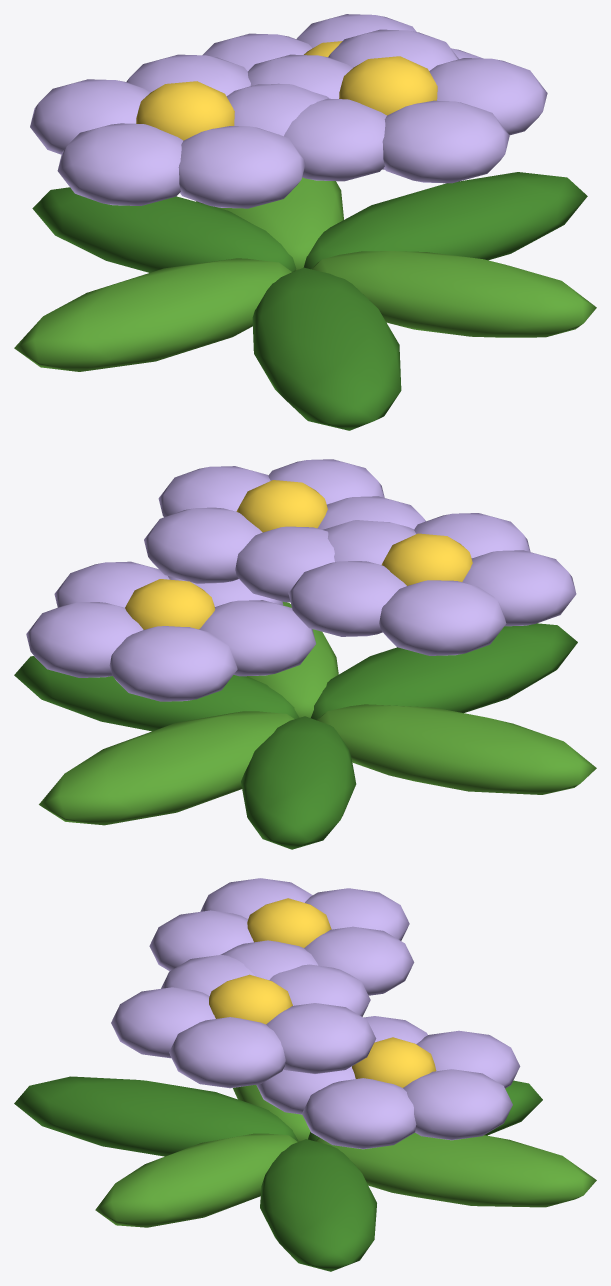
File: FlowersLilac.fbx
3 views of the same model, one above another, from view 1: azimuth 30°, elevation 25°; view 2: azimuth 150°, elevation 25°; view 3: azimuth 270°, elevation 25° (orthographic). The views are drawn at different scales.
Visible parts, largest first — view 1: FlowersLilac; view 2: FlowersLilac; view 3: FlowersLilac.
Part boxes in pixels (box(x1,y1,x2,y2)): FlowersLilac: box(14, 14, 596, 430); FlowersLilac: box(14, 459, 596, 849); FlowersLilac: box(14, 878, 596, 1271).
Bounding box in the file's own units: 0.5974 × 0.2468 × 0.6069.
Materials: 1 (1 with a texture image).
